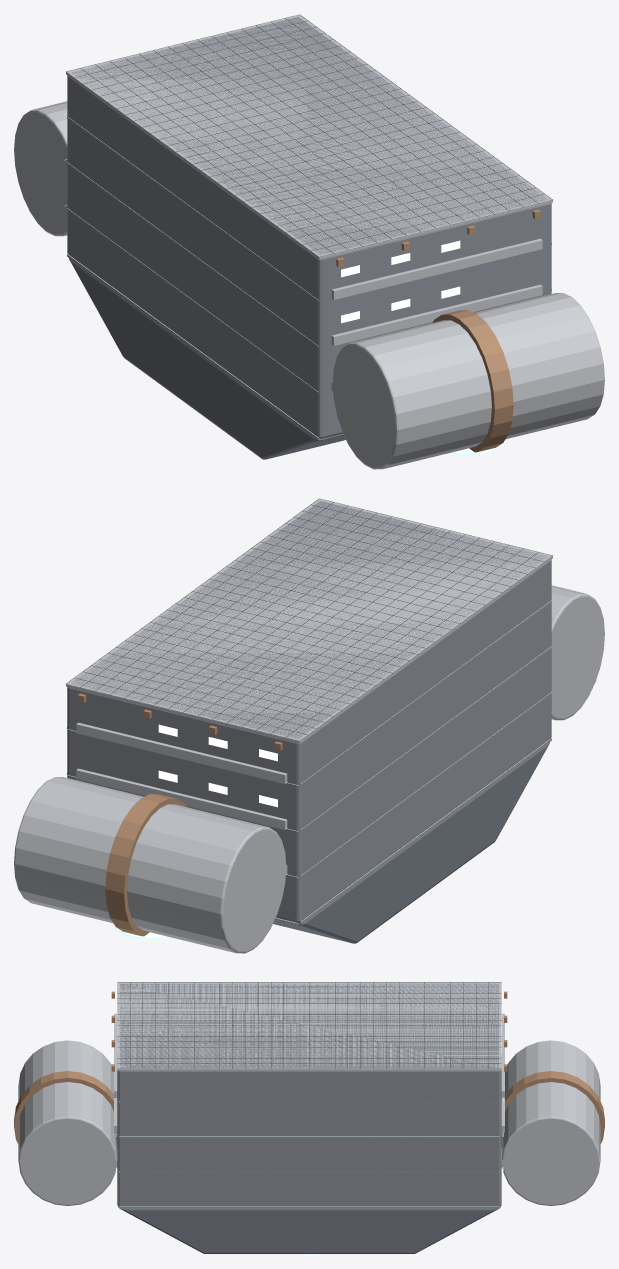
The model's file is ship_lift_30x16.glb.
3 renders of one model, top to bottom at view 1: azimuth 30°, elevation 25°; view 2: azimuth 150°, elevation 25°; view 3: azimuth 270°, elevation 25°, orthographic. The views are drawn at different scales.
Visible parts, largest first — view 1: ext_hull, ext_deck_top, ext_lift_pod0, ext_hull_belly, ext_deck_grid, ext_lift_pod2, ext_armor_plates, ext_lift_ring0, int_deck0; view 2: ext_hull, ext_deck_top, ext_lift_pod2, ext_hull_belly, ext_deck_grid, ext_lift_pod0, ext_armor_plates, ext_lift_ring2, int_deck0; view 3: ext_hull, ext_deck_top, ext_hull_belly, ext_lift_pod0, ext_lift_pod2, ext_deck_grid, ext_lift_ring0, ext_lift_ring2, int_deck0, ext_armor_plates, int_grid0, int_deck1 (+1 smaller).
Part boxes in pixels (x1,y1,x2,y2): ext_hull: (67, 17, 551, 438); ext_deck_top: (66, 15, 552, 259); ext_lift_pod0: (332, 293, 604, 469); ext_hull_belly: (69, 258, 345, 459); ext_deck_grid: (66, 14, 552, 257); ext_lift_pod2: (14, 101, 67, 236); ext_armor_plates: (331, 238, 542, 391); ext_lift_ring0: (432, 310, 513, 452); int_deck0: (67, 254, 340, 439); ext_hull: (67, 501, 551, 922); ext_deck_top: (66, 499, 552, 743); ext_lift_pod2: (14, 777, 286, 953); ext_hull_belly: (273, 742, 549, 943); ext_deck_grid: (66, 498, 552, 741); ext_lift_pod0: (551, 585, 604, 720); ext_armor_plates: (76, 722, 287, 875); ext_lift_ring2: (105, 794, 186, 936); int_deck0: (298, 738, 551, 923); ext_hull: (117, 983, 501, 1206); ext_deck_top: (117, 982, 501, 1070); ext_hull_belly: (118, 1207, 500, 1253); ext_lift_pod0: (18, 1040, 116, 1205); ext_lift_pod2: (502, 1040, 600, 1205); ext_deck_grid: (117, 982, 501, 1068); ext_lift_ring0: (14, 1071, 113, 1143); ext_lift_ring2: (505, 1071, 604, 1143); int_deck0: (119, 1206, 499, 1208); ext_armor_plates: (114, 1013, 504, 1167); int_grid0: (119, 1173, 503, 1206); int_deck1: (119, 1171, 499, 1173).
Size of the model in its own units: 16.02 by 16.04 by 46.12.
